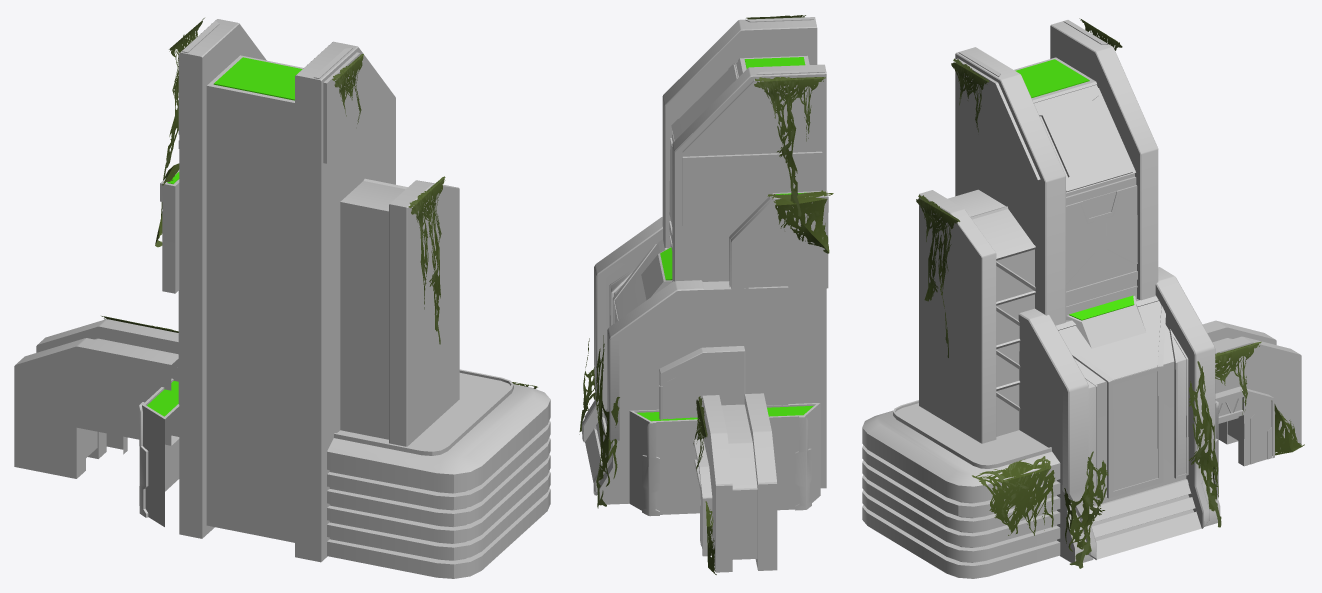
Rendered from Mesh_NorCircleMid_RepairShop.fbx.
3 views of the same model, side by side, from view 1: azimuth 30°, elevation 25°; view 2: azimuth 150°, elevation 25°; view 3: azimuth 270°, elevation 25° (orthographic). The views are drawn at different scales.
Visible parts, largest first — view 1: Mesh_NorBuilding_RepairShop; view 2: Mesh_NorBuilding_RepairShop; view 3: Mesh_NorBuilding_RepairShop.
Part boxes in pixels (x1=…): Mesh_NorBuilding_RepairShop: x1=14, y1=18, x2=550, y2=578; Mesh_NorBuilding_RepairShop: x1=579, y1=15, x2=833, y2=574; Mesh_NorBuilding_RepairShop: x1=862, y1=18, x2=1304, y2=578.
Bounding box in the file's own units: 288 × 370 × 343.
